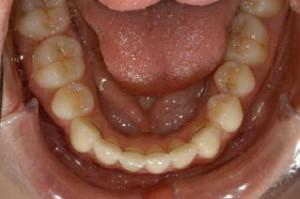LL1BC_healthy: (205, 93, 243, 132)
LL1M_decay: (227, 15, 269, 65)
LL2BC_decay: (214, 61, 257, 96)
LL2M_decay: (240, 1, 282, 17)
LLCI_decay: (146, 144, 170, 174)
LLC_decay: (191, 123, 222, 157)
LLLI_decay: (169, 138, 197, 168)
LR1BC_healthy: (49, 83, 95, 120)
LR1M_decay: (13, 1, 71, 41)
LR2BC_decay: (30, 34, 85, 89)
LRCI_decay: (118, 146, 147, 173)
LRC_decay: (71, 116, 105, 153)
LRLI_decay: (94, 136, 123, 167)
